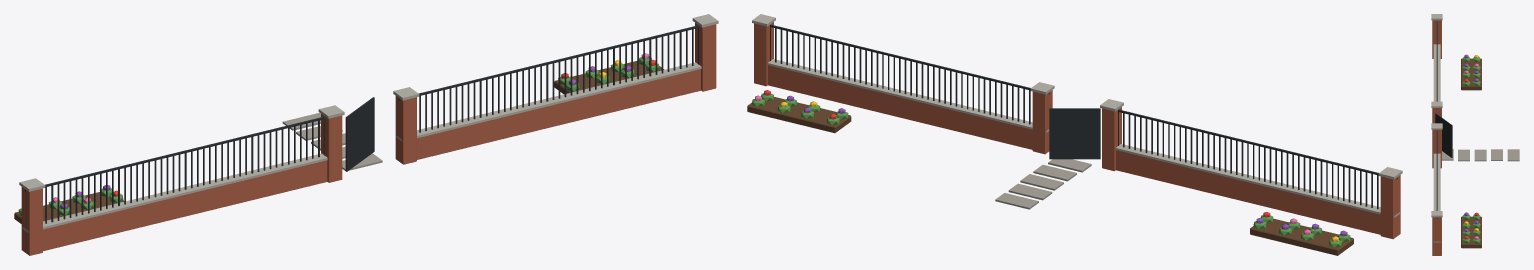
The model's file is Yard_Bars_14.fbx.
The picture shows the model from 3 angles, left to right: view 1: azimuth 30°, elevation 25°; view 2: azimuth 150°, elevation 25°; view 3: azimuth 270°, elevation 25°; orthographic projection. The views are drawn at different scales.
Parts seen in each view (by area): view 1: Yard_Bars_14; view 2: Yard_Bars_14; view 3: Yard_Bars_14.
Boxes of the visible parts, bbox=[...] form: Yard_Bars_14: bbox=[14, 14, 718, 255]; Yard_Bars_14: bbox=[747, 14, 1402, 255]; Yard_Bars_14: bbox=[1431, 14, 1519, 255].
Bounding box in the file's own units: 15.93 × 1.5 × 2.94.
